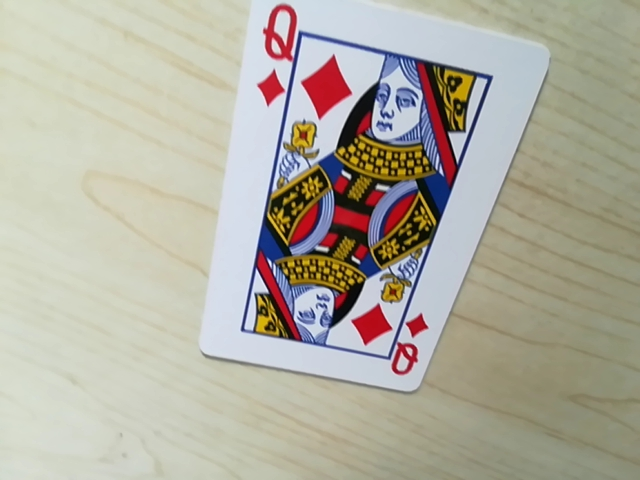fk q: (248, 0, 318, 102), (380, 332, 428, 382)
